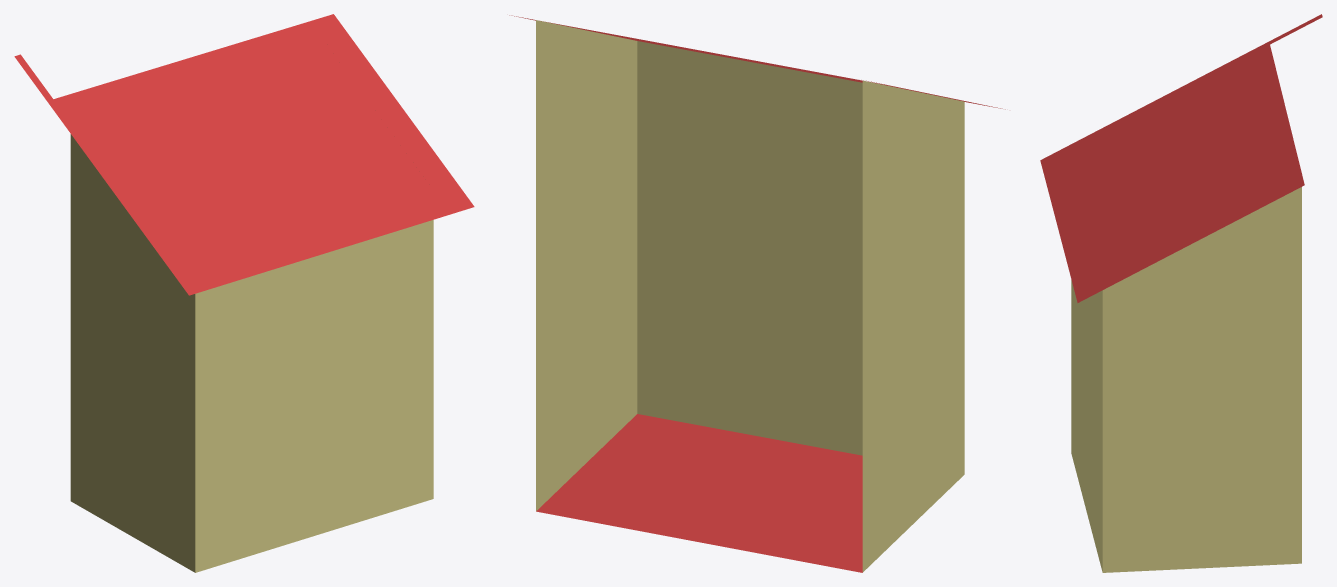
The picture shows the model from 3 angles, left to right: view 1: azimuth 30°, elevation 25°; view 2: azimuth 150°, elevation 25°; view 3: azimuth 270°, elevation 25°; orthographic projection. The views are drawn at different scales.
Size of the model in its own units: 6.54 by 5 by 8.12.
